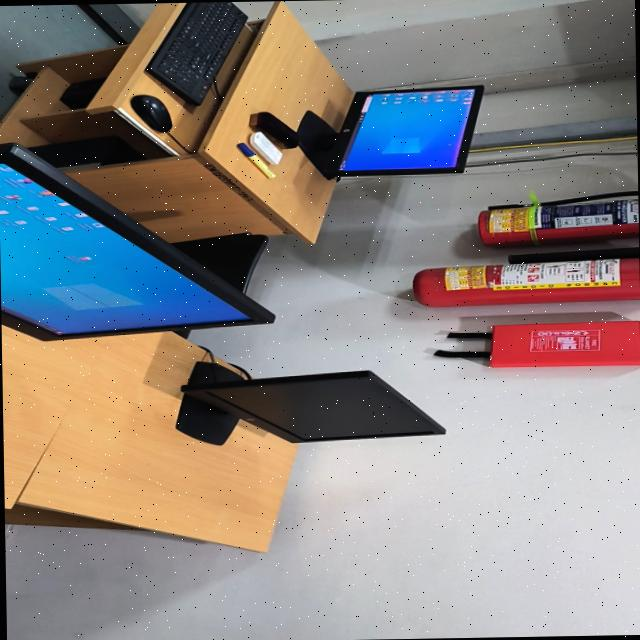Chair: (170, 233, 267, 293)
Cpu: (28, 136, 144, 167)
Fire Extinguisher: (412, 253, 640, 307), (477, 191, 639, 247)
Keyboard: (145, 2, 246, 105)
Monitor: (0, 143, 273, 341), (176, 361, 443, 445), (296, 85, 482, 179)
Mouse: (130, 94, 171, 132)
